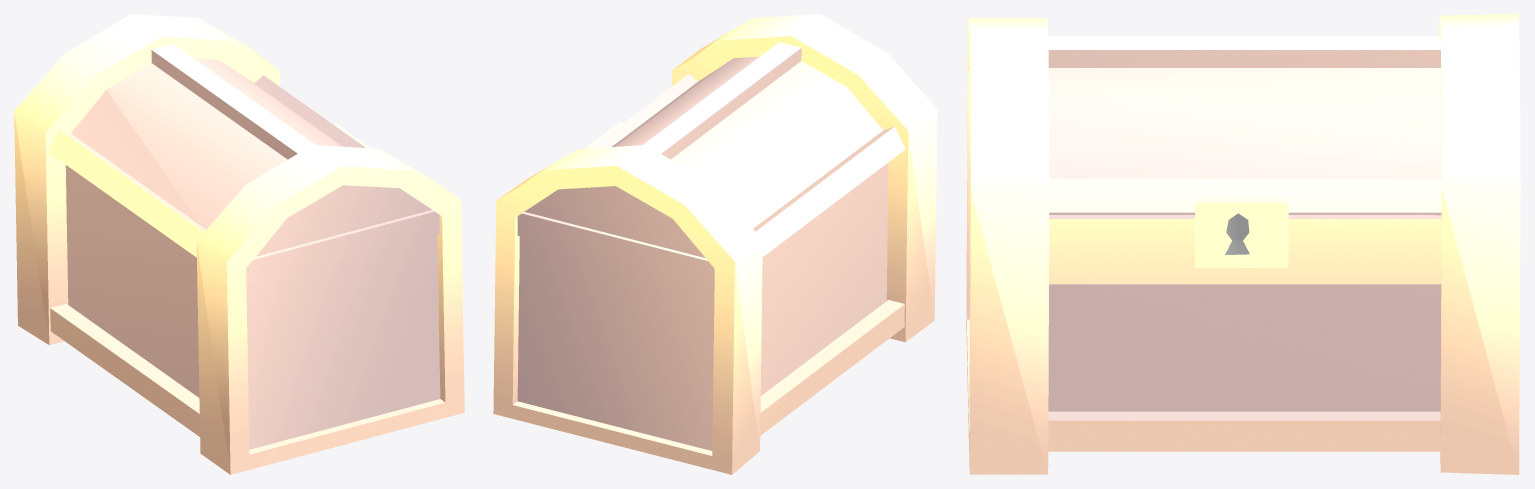
The model's file is chest.glb.
3 views of the same model, side by side, from view 1: azimuth 30°, elevation 25°; view 2: azimuth 150°, elevation 25°; view 3: azimuth 270°, elevation 25° (orthographic). The views are drawn at different scales.
Parts seen in each view (by area): view 1: Line042_Material #117_0; view 2: Line042_Material #117_0; view 3: Line042_Material #117_0.
Part boxes in pixels (bbox=[...]): Line042_Material #117_0: bbox=[14, 14, 464, 474]; Line042_Material #117_0: bbox=[493, 14, 937, 474]; Line042_Material #117_0: bbox=[966, 14, 1520, 474].
Size of the model in its own units: 22 by 24.4 by 32.76.
